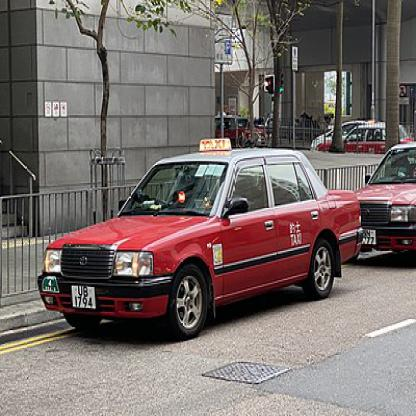taxi: (36, 137, 367, 343)
